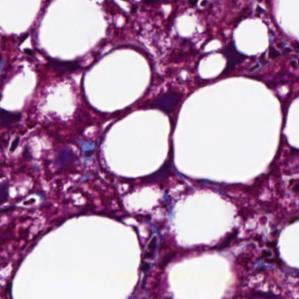inflammation: (2, 131, 49, 164), (251, 225, 285, 266)
